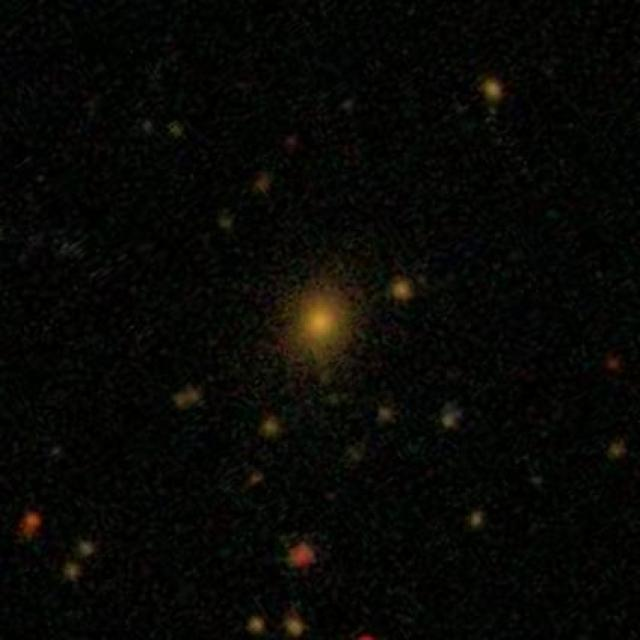galaxy: (260, 257, 371, 399), (278, 534, 319, 575), (434, 396, 469, 434), (275, 606, 314, 640), (473, 72, 506, 111), (387, 275, 419, 307), (174, 383, 206, 415), (210, 205, 242, 233), (17, 512, 45, 542), (261, 411, 284, 442), (373, 402, 398, 430), (59, 556, 82, 586), (464, 507, 487, 532), (243, 619, 272, 638), (242, 469, 268, 490), (607, 435, 626, 463), (603, 353, 623, 379), (254, 170, 276, 193), (282, 132, 305, 153), (78, 540, 96, 562), (338, 96, 356, 117), (168, 121, 185, 142), (141, 116, 156, 136), (355, 629, 379, 640)
